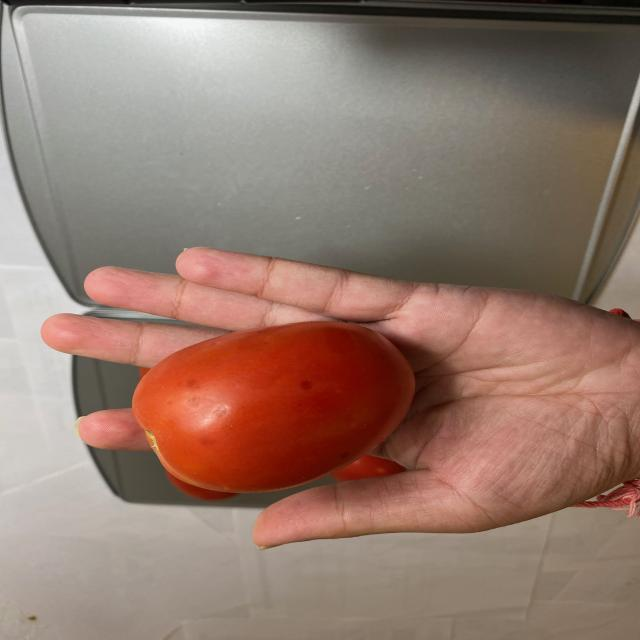tomato: (126, 324, 417, 497)
